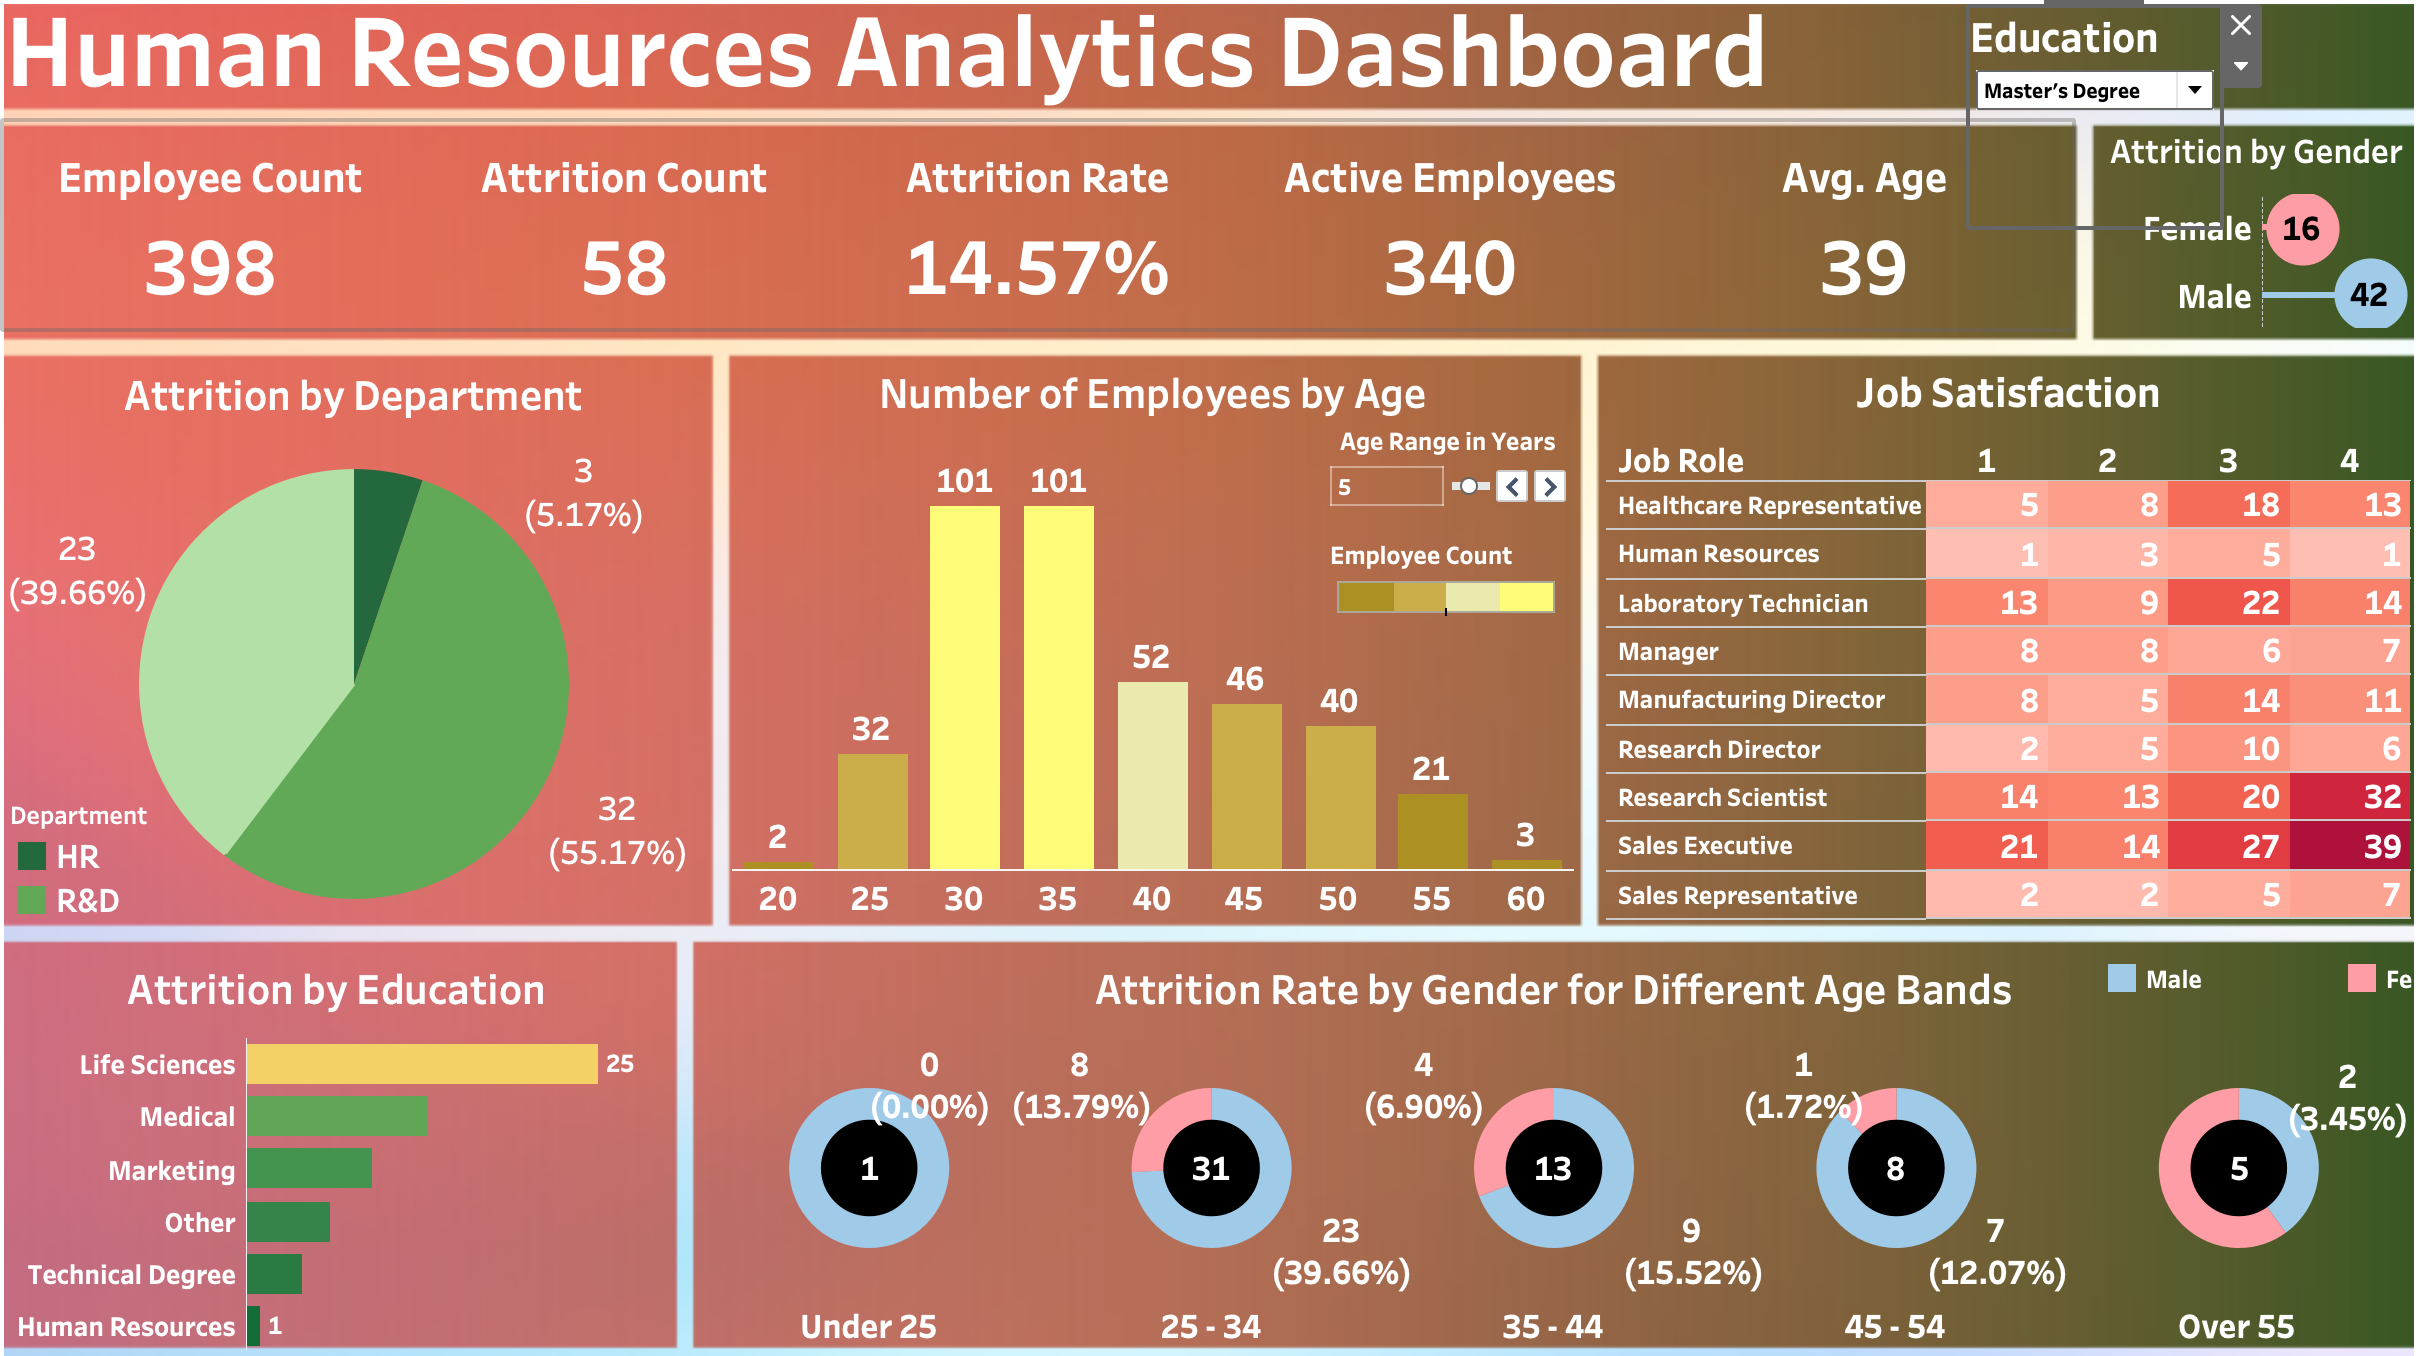

The page's visual inventory and layout, read from the dashboard file:
{"tool":"tableau","page":{"name":"Human Resources Dashboard","canvas":[1580,900],"ordinal":0},"visuals":[{"type":"image","param":"/Users/chrisgaruba/Documents/PROJECTS/ORIGINAL PROJECT DATA/Data Analyst Portfol","box":[8,8,1564,884]},{"type":"text","box":[13,12,892,67]},{"type":"filter","title":"Attrition by Department","param":"[federated.16fzf2y1m25ecy1cqt7hm1aib45q].[none:Education:nk]","box":[1219,18,160,138]},{"type":"worksheet","title":"Attrition by Gender","mark":"Automatic","rows":["Gender"],"cols":["Calculation_1640436225959071744","Calculation_1640436225959071744"],"box":[1364,93,201,132]},{"type":"worksheet","title":"KPI","mark":"Automatic","box":[16,94,1329,131]},{"type":"worksheet","title":"Number of Employees by Age","mark":"Automatic","rows":["Employee Count"],"cols":["Age (bin)"],"box":[484,243,541,360]},{"type":"worksheet","title":"Job Satisfaction","mark":"Square","rows":["Job Role"],"cols":["Job Satisfaction"],"box":[1045,243,518,359]},{"type":"worksheet","title":"Attrition by Department","mark":"Pie","box":[14,244,453,360]},{"type":"parameter","param":"[Parameters].[Parameter 1]","box":[864,287,160,67]},{"type":"legend","title":"Number of Employees by Age","param":"[federated.16fzf2y1m25ecy1cqt7hm1aib45q].[sum:Employee Count:qk]","box":[868,359,150,52]},{"type":"legend","title":"Attrition by Department","param":"[federated.16fzf2y1m25ecy1cqt7hm1aib45q].[none:Department:nk]","box":[19,525,140,78]},{"type":"worksheet","title":"Attrition by Education","mark":"Automatic","rows":["Education Field"],"cols":["Calculation_1640436225959071744"],"box":[17,622,425,254]},{"type":"worksheet","title":"Attrition Rate by Gender for Different Age Bands","mark":"Pie","rows":["Calculation_1640436226023108614","Calculation_1640436226023129096"],"cols":["CF_age band"],"box":[462,622,1101,253]}]}

Visuals, with their boxes in screenshot pixels (x1, y1, x2, y2), scaled from the page's 1580x900 canvas onto the 2418x1356 screenshot:
image: [x1=12, y1=12, x2=2406, y2=1344]
text: [x1=20, y1=18, x2=1385, y2=119]
"Attrition by Department" filter: [x1=1866, y1=27, x2=2110, y2=235]
"Attrition by Gender" worksheet: [x1=2087, y1=140, x2=2395, y2=339]
"KPI" worksheet: [x1=24, y1=142, x2=2058, y2=339]
"Number of Employees by Age" worksheet: [x1=741, y1=366, x2=1569, y2=909]
"Job Satisfaction" worksheet (Square marks): [x1=1599, y1=366, x2=2392, y2=907]
"Attrition by Department" worksheet (Pie marks): [x1=21, y1=368, x2=715, y2=910]
parameter: [x1=1322, y1=432, x2=1567, y2=533]
"Number of Employees by Age" legend: [x1=1328, y1=541, x2=1558, y2=619]
"Attrition by Department" legend: [x1=29, y1=791, x2=243, y2=909]
"Attrition by Education" worksheet: [x1=26, y1=937, x2=676, y2=1320]
"Attrition Rate by Gender for Different Age Bands" worksheet (Pie marks): [x1=707, y1=937, x2=2392, y2=1318]
